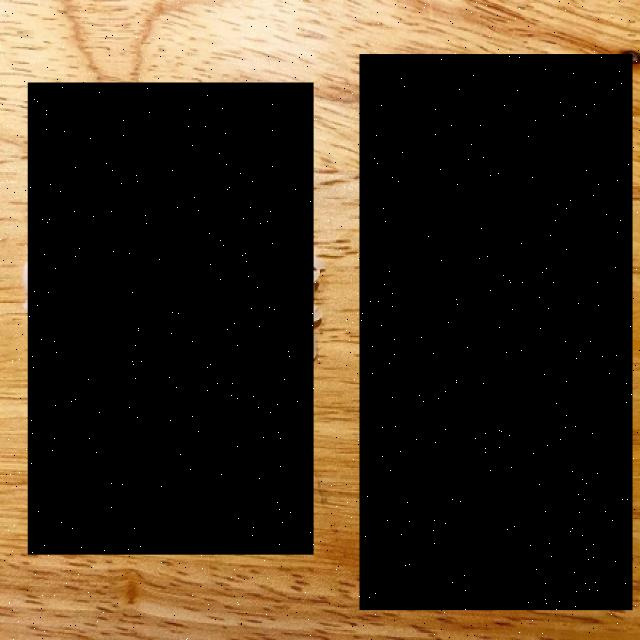Rice: (359, 54, 633, 610), (28, 83, 314, 554)
